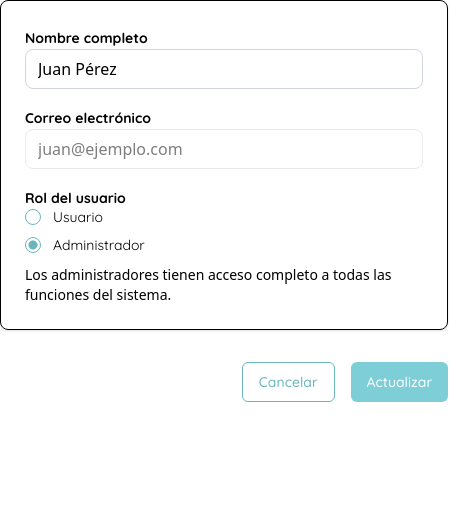
UsuarioForm › Modo edición › debe mostrar error si falla la actualización
This screenshot has width=469, height=513.
Click the button "Actualizar" at [399, 382], box [350,362,448,402]
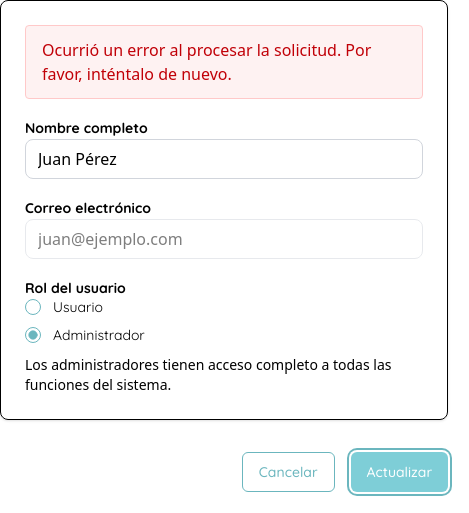
Result: the text "Ocurrió un error al procesar la solicitud. Por favor, inténtalo de nuevo." is shown at [25,25,423,99]
